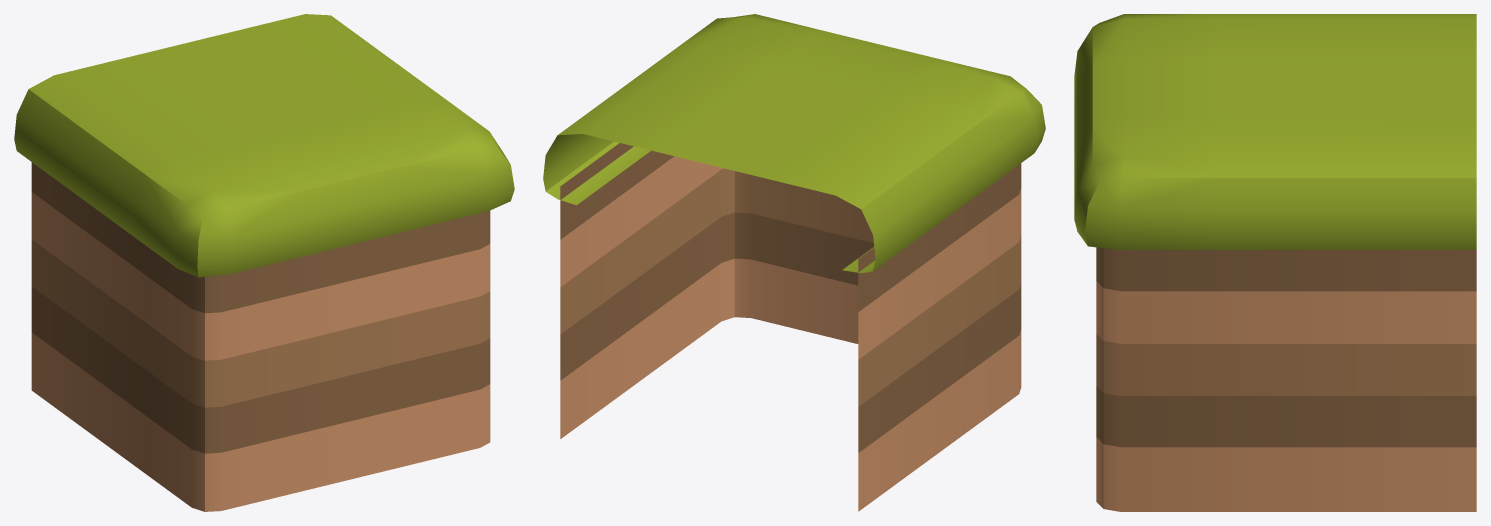
File: RevCube_Grass_Corner_Tall.fbx
The picture shows the model from 3 angles, left to right: view 1: azimuth 30°, elevation 25°; view 2: azimuth 150°, elevation 25°; view 3: azimuth 270°, elevation 25°; orthographic projection. The views are drawn at different scales.
Parts seen in each view (by area): view 1: Cube_Grass_Corner_Tall; view 2: Cube_Grass_Corner_Tall; view 3: Cube_Grass_Corner_Tall.
Boxes of the visible parts, x1,y1,x2,y2 form: Cube_Grass_Corner_Tall: (14, 14, 514, 511); Cube_Grass_Corner_Tall: (543, 14, 1045, 511); Cube_Grass_Corner_Tall: (1074, 14, 1476, 511).
Size of the model in its own units: 223 by 200 by 212.
